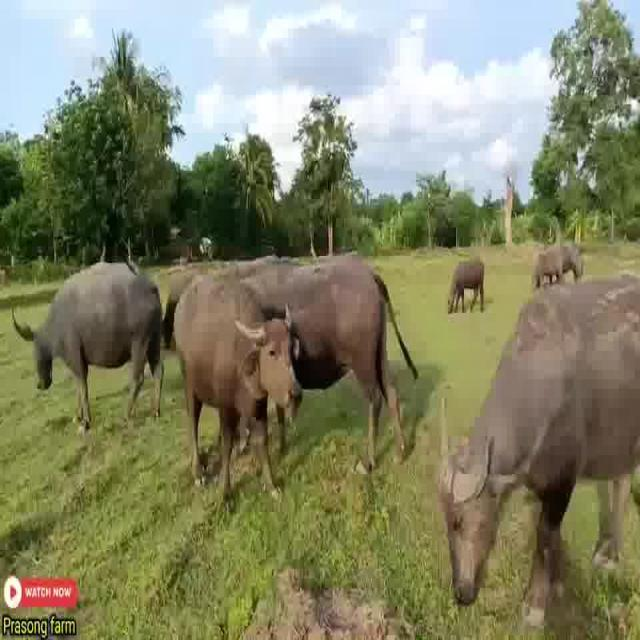buffalo: (441, 260, 639, 622), (162, 244, 404, 492), (15, 254, 168, 432), (530, 238, 587, 294), (446, 251, 492, 318)
